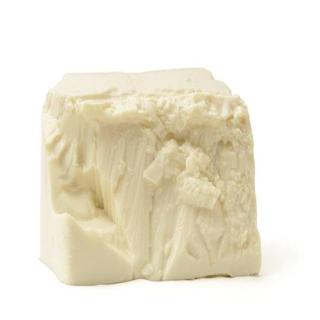Tahu: (28, 62, 268, 294)
